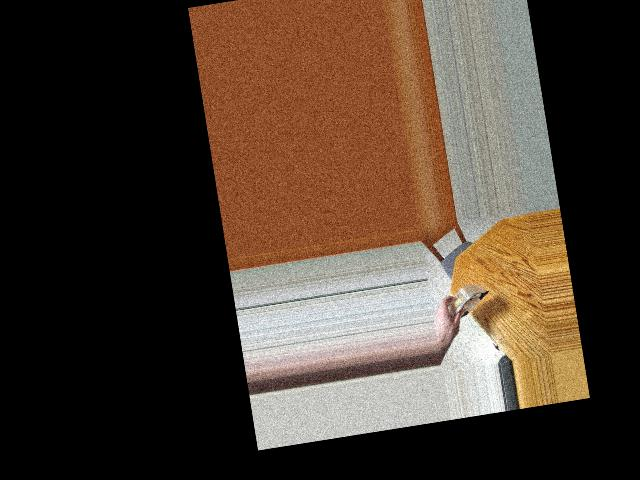cheese: (439, 277, 490, 335)
